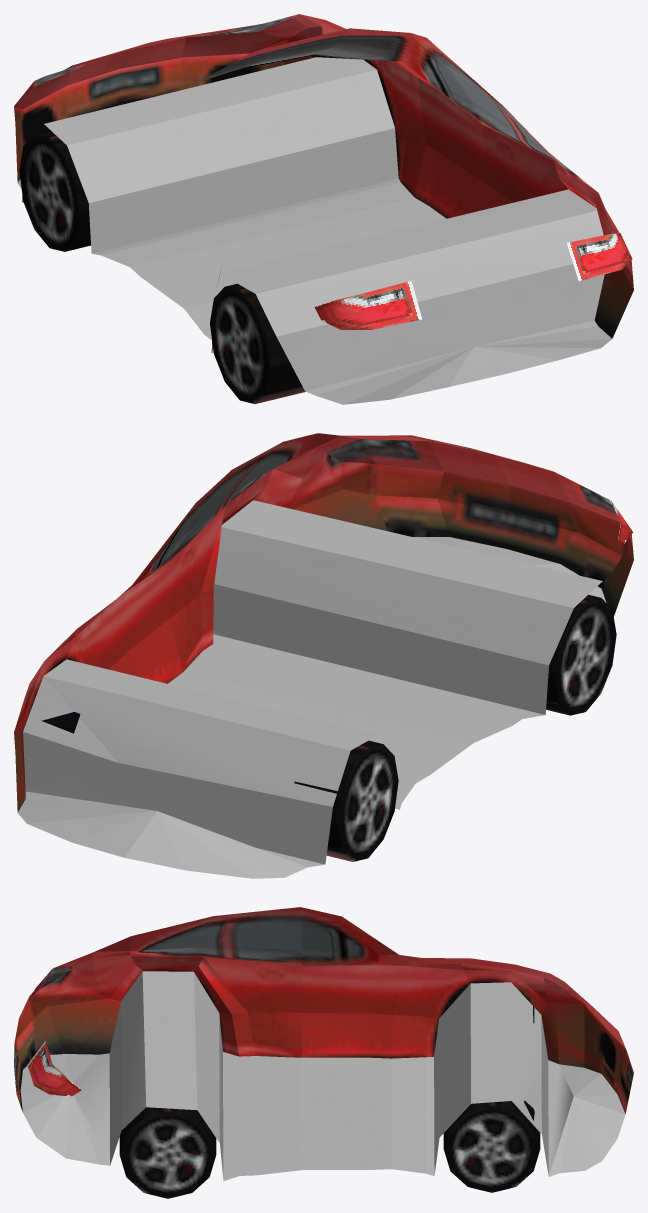
3 renders of one model, top to bottom at view 1: azimuth 30°, elevation 25°; view 2: azimuth 150°, elevation 25°; view 3: azimuth 270°, elevation 25°, orthographic. The views are drawn at different scales.
Parts seen in each view (by area): view 1: taxi04, tyre1, tyre3, light1; view 2: taxi04, tyre3, tyre1; view 3: taxi04, tyre2, tyre4, light1.
Boxes of the visible parts, <box> form: taxi04: <box>14,14,633,404</box>; tyre1: <box>210,283,305,403</box>; tyre3: <box>19,130,90,251</box>; light1: <box>314,232,632,329</box>; taxi04: <box>14,433,633,878</box>; tyre3: <box>294,740,398,861</box>; tyre1: <box>546,594,616,715</box>; taxi04: <box>14,907,633,1181</box>; tyre2: <box>119,1107,216,1198</box>; tyre4: <box>443,1100,540,1192</box>; light1: <box>27,967,81,1096</box>.
Bounding box in the file's own units: 0.2762 × 0.1868 × 0.5317.
2 materials, 2 textured.
